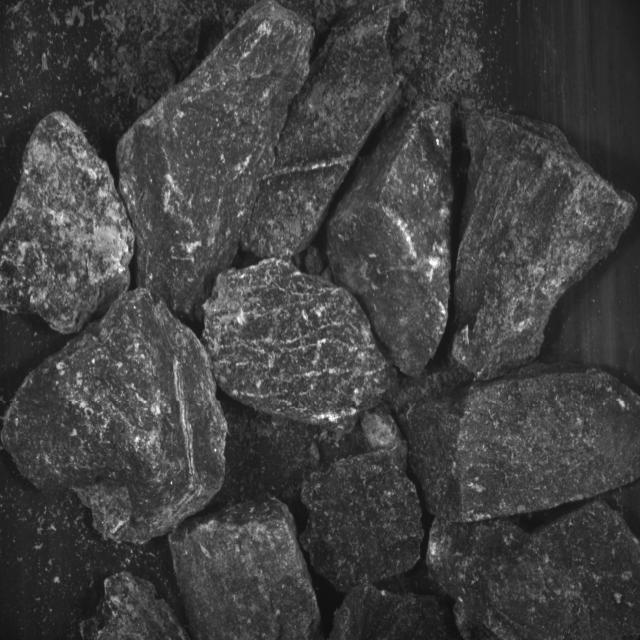Stones: (119, 3, 315, 319), (2, 291, 227, 545), (452, 115, 636, 381), (242, 4, 397, 260), (405, 365, 640, 523), (329, 102, 454, 378), (205, 259, 389, 427), (1, 113, 135, 335), (427, 501, 640, 640), (170, 499, 321, 640), (301, 452, 425, 593), (81, 572, 189, 640), (362, 412, 402, 450)
